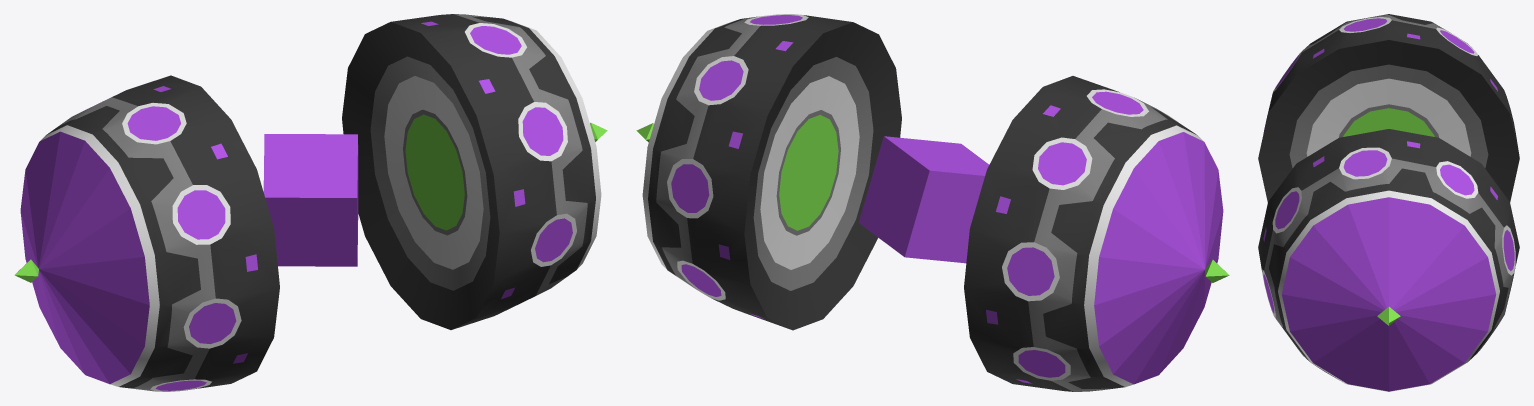
Rendered from Energypack.fbx.
3 renders of one model, left to right at view 1: azimuth 30°, elevation 25°; view 2: azimuth 150°, elevation 25°; view 3: azimuth 270°, elevation 25°, orthographic. The views are drawn at different scales.
Visible parts, largest first — view 1: Cube; view 2: Cube; view 3: Cube.
Boxes of the visible parts, <box> form: Cube: <box>14,14,607,391</box>; Cube: <box>636,14,1229,391</box>; Cube: <box>1258,14,1519,391</box>.
Bounding box in the file's own units: 44.55 × 20.52 × 20.52.
